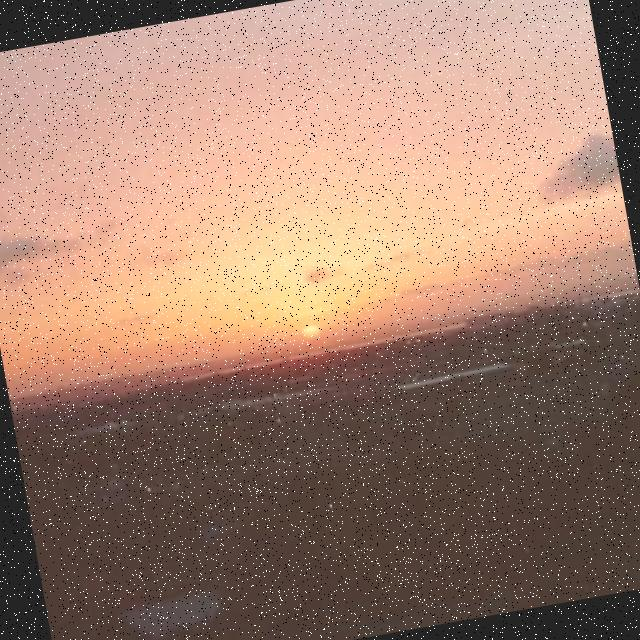St: (1, 1, 640, 398)
